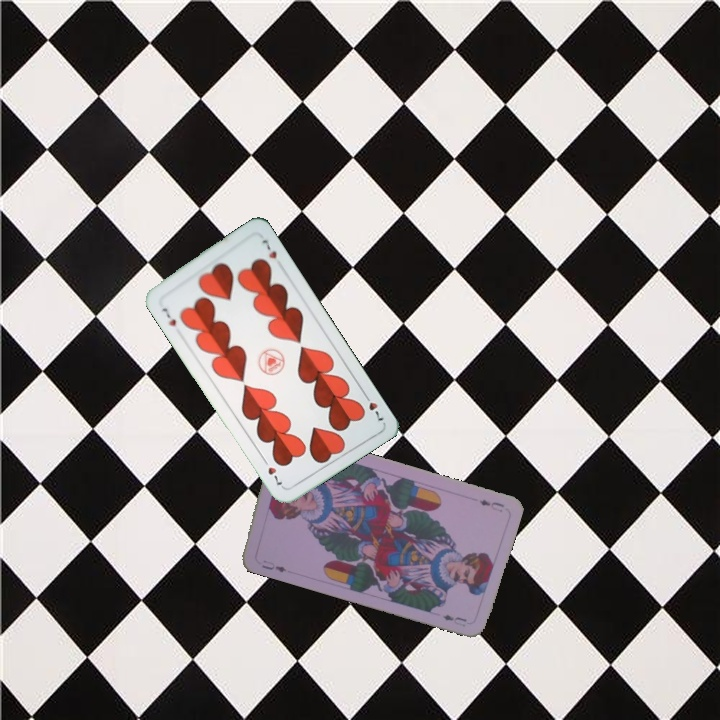EU: (476, 495, 507, 515), (258, 556, 289, 575)
H7: (359, 388, 386, 424), (158, 304, 179, 329)
